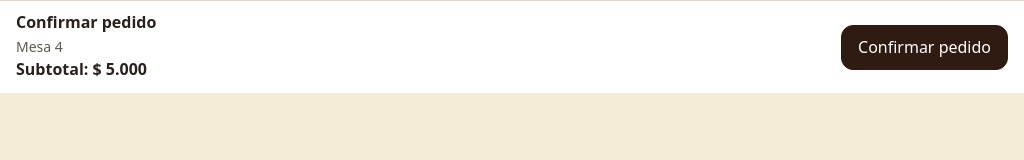
Scenario: ConfirmarPedido › muestra un mensaje legible si la API devuelve un contrato inválido
The width and height of the screenshot is (1024, 160).
Click the button "Confirmar pedido".
click(924, 47)  # box [841,24,1008,70]
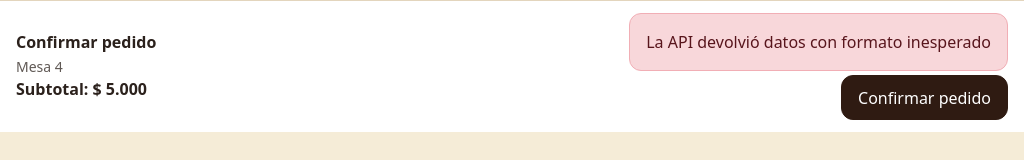
Result: the message shows "formato inesperado" at [646,31,991,53]
